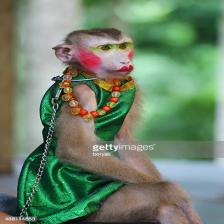monkey: (13, 16, 201, 224)
